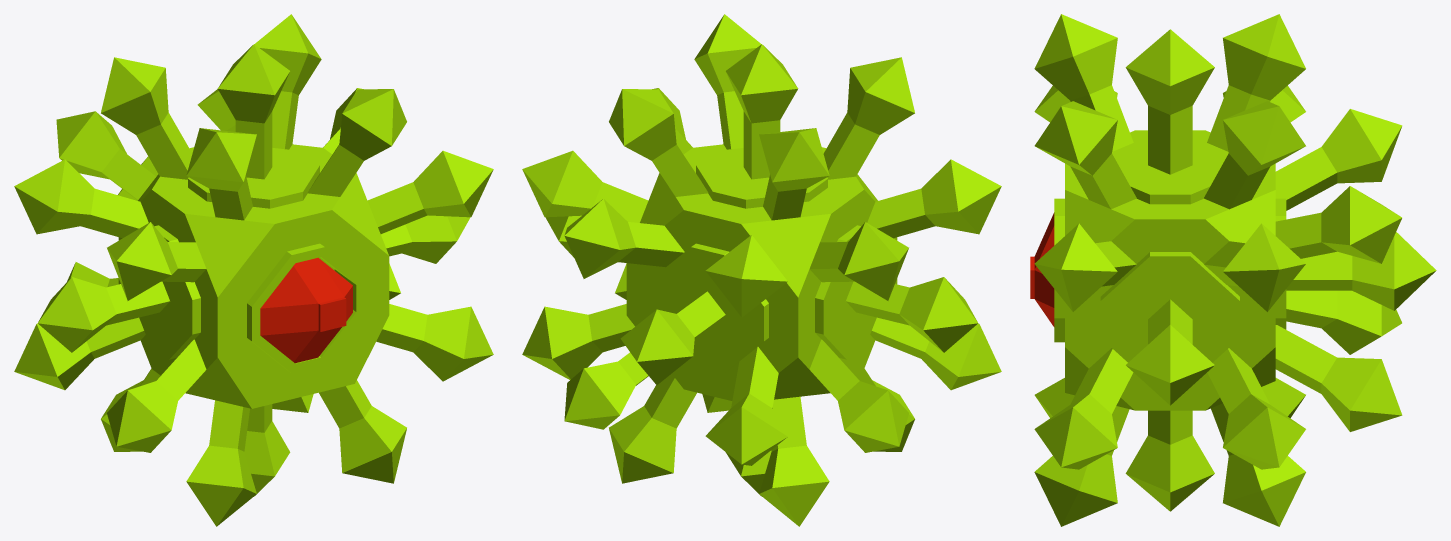
Rendered from virus-novo2.fbx.
The picture shows the model from 3 angles, left to right: view 1: azimuth 30°, elevation 25°; view 2: azimuth 150°, elevation 25°; view 3: azimuth 270°, elevation 25°; orthographic projection. The views are drawn at different scales.
Parts seen in each view (by area): view 1: Mesh2_Group3_Group1_Model, Mesh1_Group2_Group1_Model; view 2: Mesh2_Group3_Group1_Model; view 3: Mesh2_Group3_Group1_Model, Mesh1_Group2_Group1_Model.
Part boxes in pixels (x1=…): Mesh2_Group3_Group1_Model: x1=14, y1=14, x2=493, y2=526; Mesh1_Group2_Group1_Model: x1=260, y1=257, x2=352, y2=363; Mesh2_Group3_Group1_Model: x1=522, y1=14, x2=1001, y2=526; Mesh2_Group3_Group1_Model: x1=1034, y1=14, x2=1436, y2=526; Mesh1_Group2_Group1_Model: x1=1030, y1=212, x2=1054, y2=326.
Size of the model in its own units: 446 by 446 by 340.
